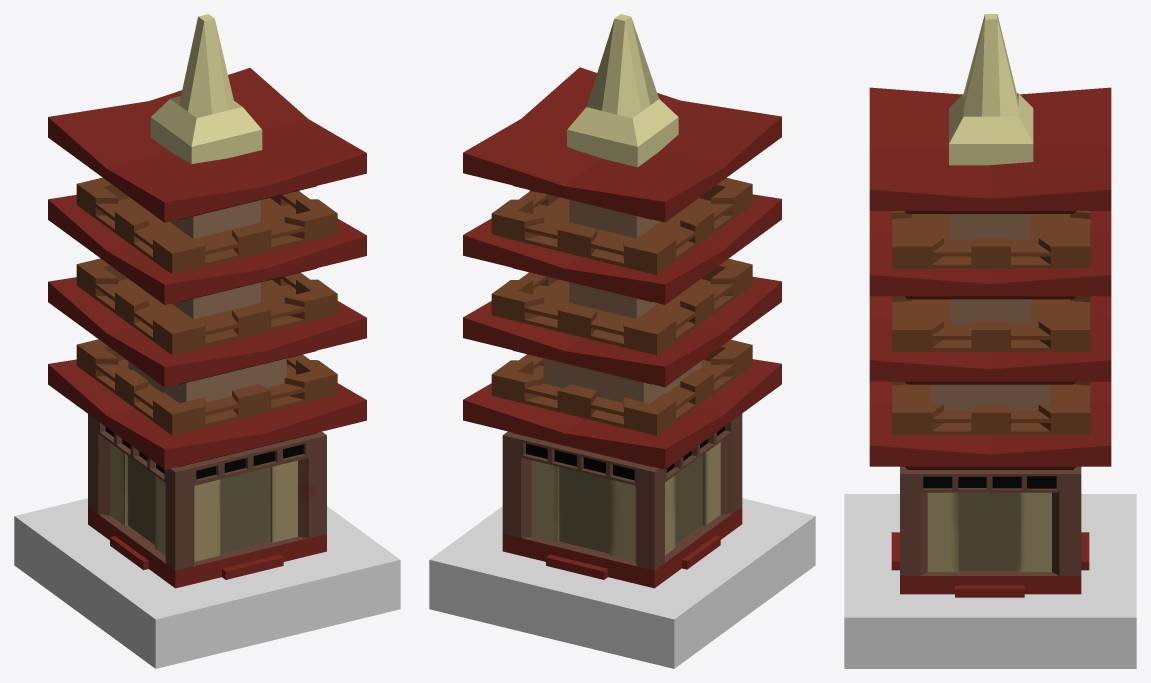
Rendered from templo (1).fbx.
The picture shows the model from 3 angles, left to right: view 1: azimuth 30°, elevation 25°; view 2: azimuth 150°, elevation 25°; view 3: azimuth 270°, elevation 25°; orthographic projection. The views are drawn at different scales.
Parts seen in each view (by area): view 1: Cube.001, Cube, Cube.004, Cube.003, Cube.002; view 2: Cube.001, Cube, Cube.004, Cube.003, Cube.002; view 3: Cube.001, Cube.004, Cube, Cube.003, Cube.002.
Boxes of the visible parts, x1=… form: Cube.001: x1=48, y1=68, x2=366, y2=469; Cube: x1=88, y1=200, x2=326, y2=588; Cube.004: x1=14, y1=498, x2=400, y2=668; Cube.003: x1=76, y1=177, x2=337, y2=435; Cube.002: x1=150, y1=14, x2=262, y2=164; Cube.001: x1=463, y1=67, x2=781, y2=469; Cube: x1=502, y1=200, x2=742, y2=588; Cube.004: x1=429, y1=498, x2=815, y2=668; Cube.003: x1=491, y1=177, x2=752, y2=435; Cube.002: x1=567, y1=14, x2=678, y2=167; Cube.001: x1=869, y1=87, x2=1111, y2=469; Cube.004: x1=844, y1=494, x2=1136, y2=668; Cube: x1=891, y1=214, x2=1089, y2=597; Cube.003: x1=892, y1=211, x2=1090, y2=434; Cube.002: x1=949, y1=14, x2=1033, y2=165.
Size of the model in its own units: 4336 by 9648 by 4336.
Materials: 4 (4 with a texture image).
